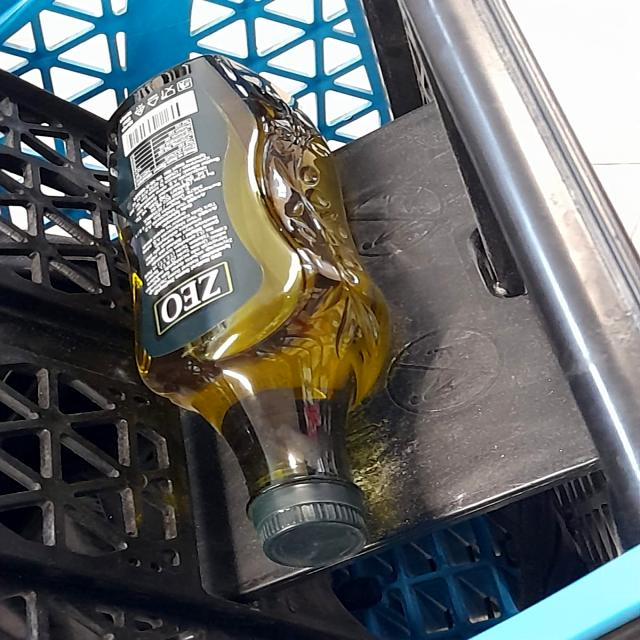olive oil: (107, 71, 377, 548)
